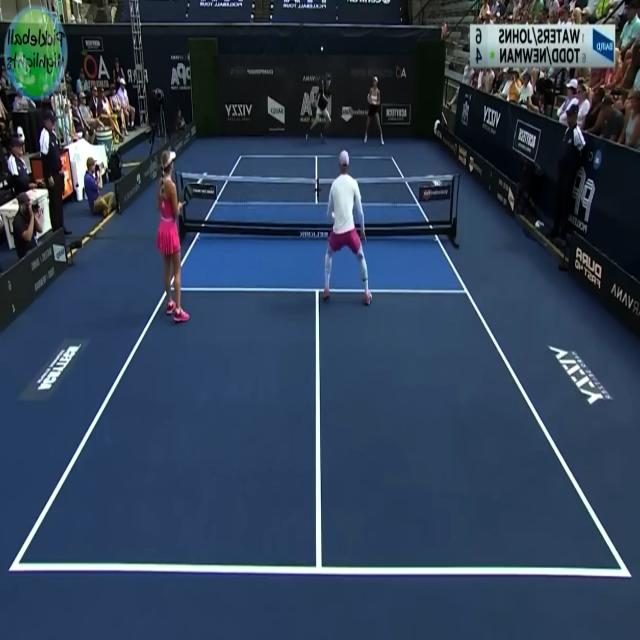Pickleball: (320, 46, 324, 51)
